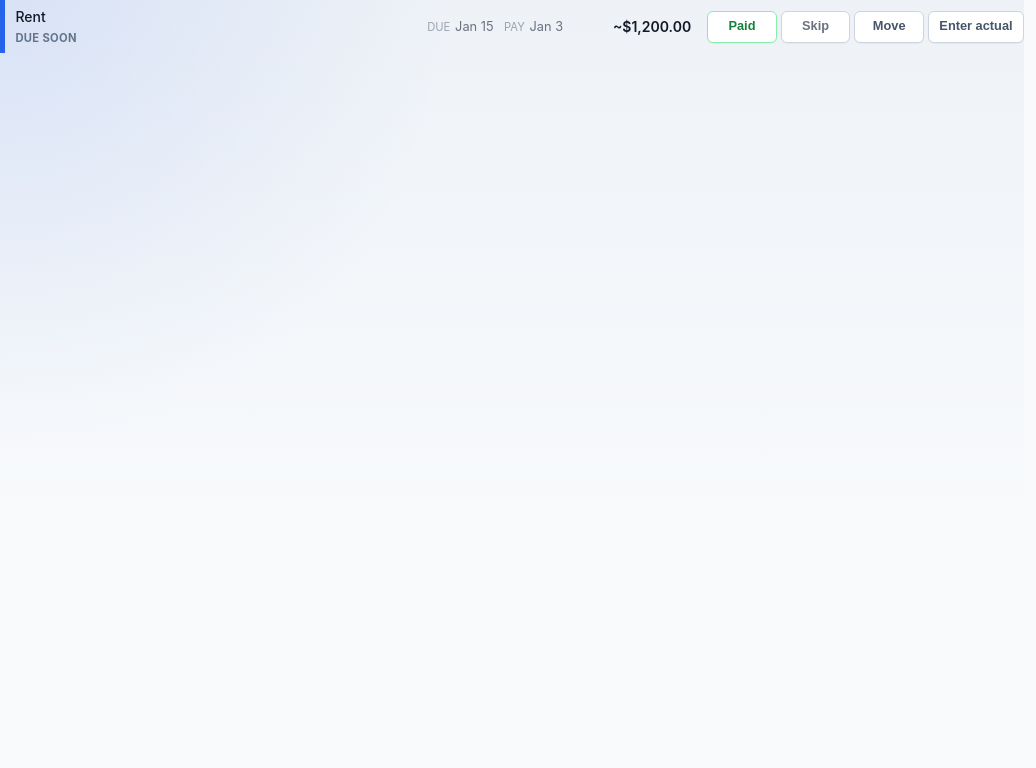
Test: BillRow — variable bill › shows an error toast and does not submit when confirming an empty actual (BI-23)
What coordinates should you click on to do the following:
click the button "Enter actual"
I would click on:
 (976, 27)
Its box is [928, 11, 1024, 43].
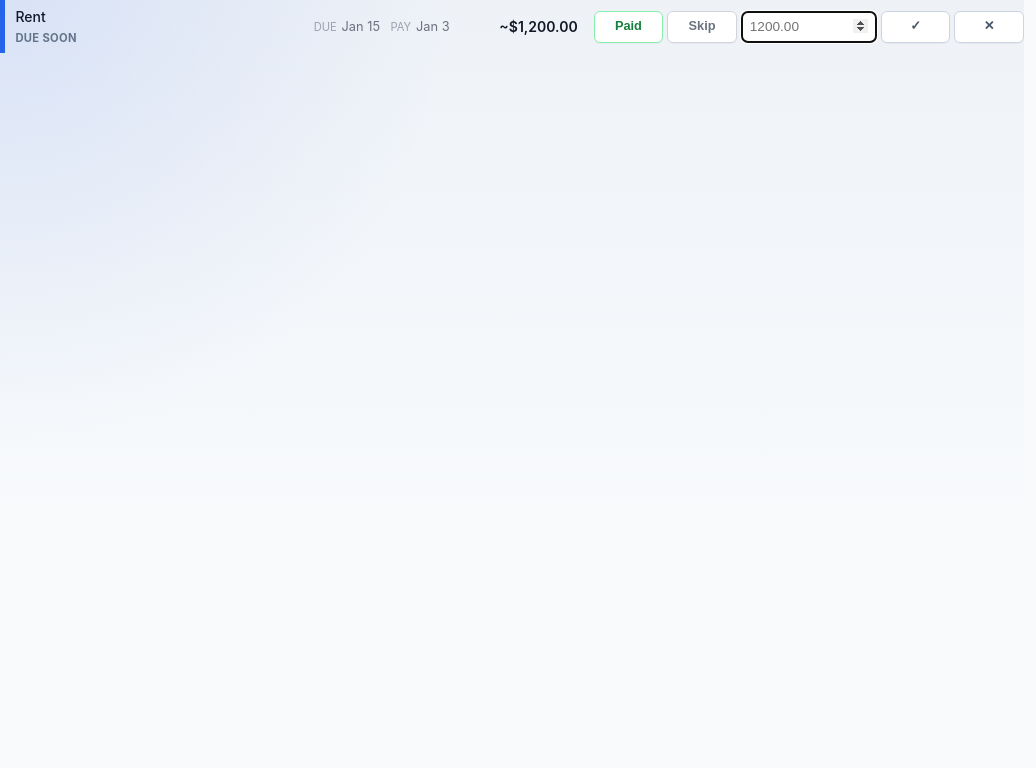
What coordinates should you click on to do the following:
click the button named "confirm actual"
I would click on:
 (916, 27)
Its box is [881, 11, 950, 43].
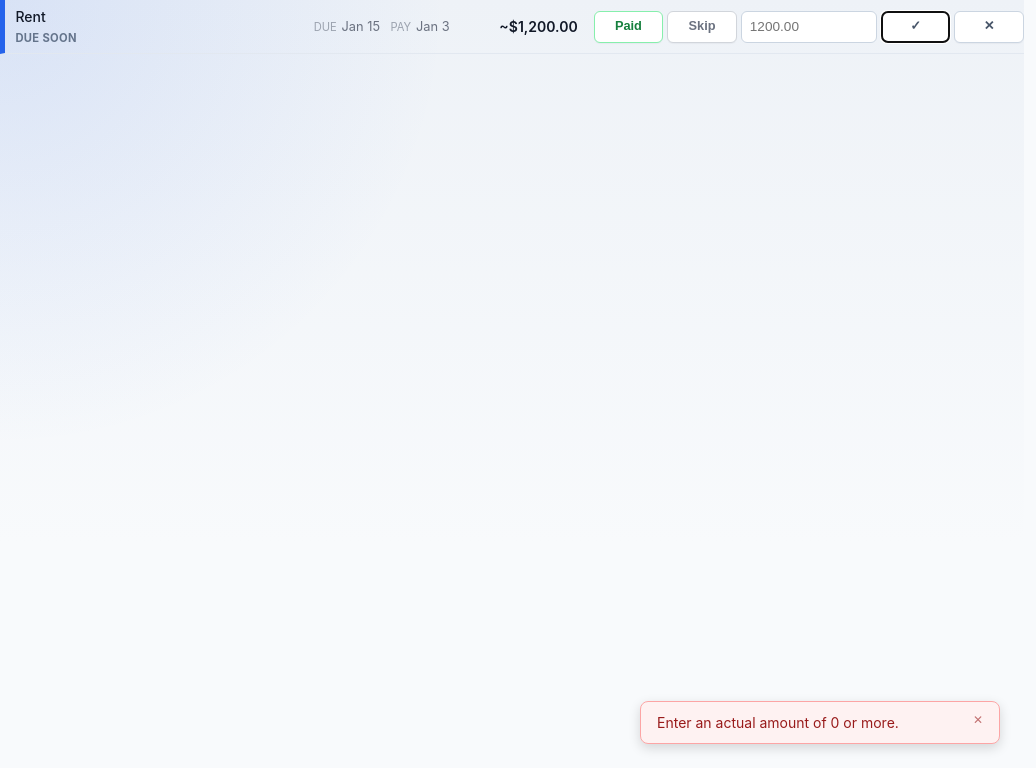
Result: the number field named "actual amount" is shown at [741, 11, 877, 43]
Result: the text "Enter an actual amount of 0 or more." is shown at [657, 714, 899, 731]
